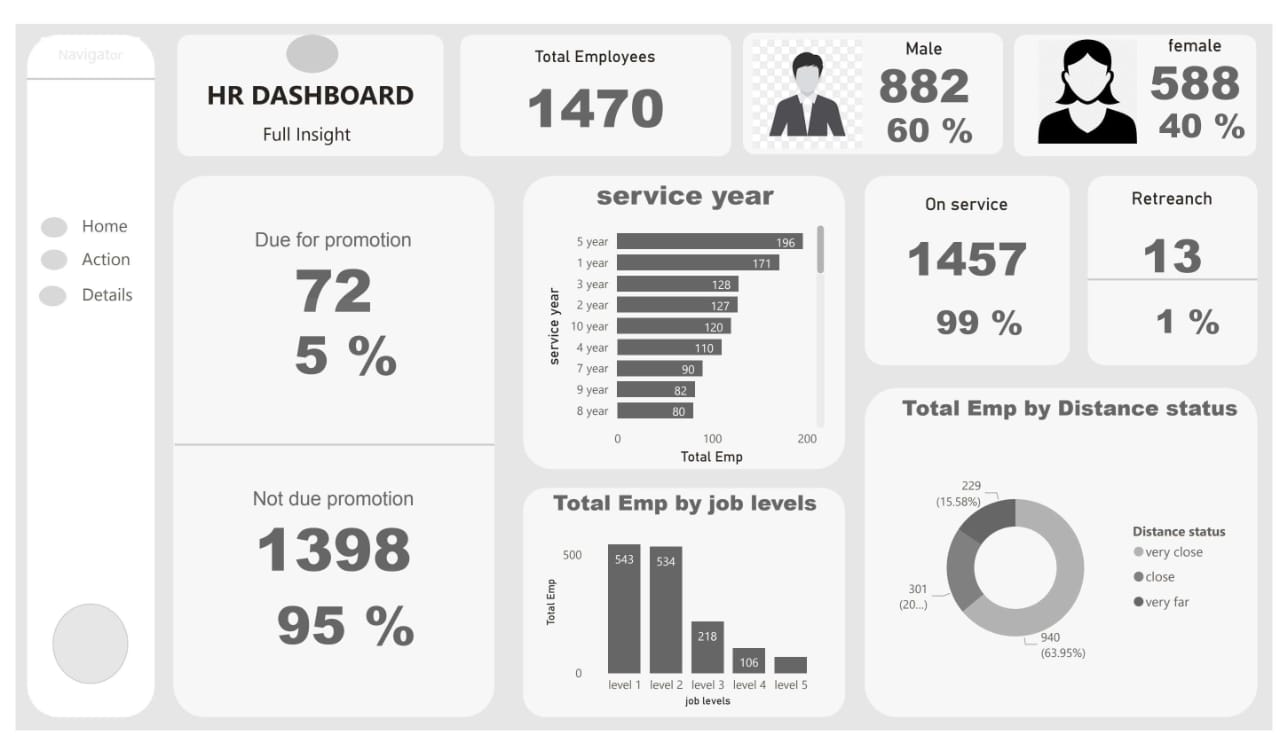

This screenshot's page, from the dashboard's own definition file:
{"tool":"powerbi","page":{"name":"Home","canvas":[1280,720],"ordinal":0},"visuals":[{"type":"shape","box":[12.1,10.6,130.3,696.8],"z":0},{"type":"shape","box":[452.9,10.6,275.7,124.2],"z":1000},{"type":"shape","box":[740.7,9.1,265.1,124.2],"z":2000},{"type":"shape","box":[1017.3,10.7,246.7,124],"z":3000},{"type":"card","title":"Total Employees","fields":{"Values":["Measure value.Total Emp"]},"box":[474.1,22.7,233.3,100],"z":4000},{"type":"shape","box":[165.1,10.6,271.1,124.2],"z":5000},{"type":"shape","box":[275.7,10.6,53,39.4],"z":6000},{"type":"textbox","box":[246.9,93.9,109.1,36.4],"z":7000},{"type":"card","title":"Male","fields":{"Values":["Measure value.male"]},"box":[861.9,13.6,127.2,72.7],"z":8000},{"type":"shape","box":[160.6,154.5,327.2,552.9],"z":9000},{"type":"shape","box":[162.1,404.4,325.7,50],"z":10000},{"type":"shape","box":[516.5,154.5,328.7,299.9],"z":11000},{"type":"shape","box":[516.5,472.6,328.7,234.8],"z":12000},{"type":"card","title":"Male","fields":{"Values":["Measure value.%Male"]},"box":[874,83.3,115.1,48.5],"z":13000},{"type":"card","title":"female","fields":{"Values":["Measure value.female"]},"box":[1137.6,10.6,127.2,72.7],"z":14000},{"type":"card","title":"Male","fields":{"Values":["Measure value.%Female"]},"box":[1152.8,78.8,112.1,48.5],"z":15000},{"type":"image","box":[1017.9,10.6,148.4,116.6],"z":16000},{"type":"image","box":[739.2,10.6,134.8,121.2],"z":17000},{"type":"card","title":"Due for promotion","fields":{"Values":["Measure value.Due for promotion"]},"box":[183.3,209,281.8,95.4],"z":18000},{"type":"card","fields":{"Values":["Measure value.% Due for promotion"]},"box":[221.2,280.2,231.8,107.6],"z":19000},{"type":"card","title":"Not due promotion","fields":{"Values":["Measure value.Not due"]},"box":[183.3,472.6,281.8,95.4],"z":20000},{"type":"card","fields":{"Values":["Measure value.% Not due"]},"box":[221.2,555.9,231.8,107.6],"z":21000},{"type":"textbox","box":[177.2,48.5,246.9,54.5],"z":22000},{"type":"barChart","title":"service year","fields":{"Category":["HR Analytics Data.service year"],"Y":["Measure value.Total Emp"]},"box":[534.7,154.5,293.9,299.9],"z":23000},{"type":"columnChart","fields":{"Category":["HR Analytics Data.job levels"],"Y":["Measure value.Total Emp"]},"box":[534.7,472.6,293.9,228.7],"z":24000},{"type":"shape","box":[1092.2,154.5,172.7,193.9],"z":25000},{"type":"shape","box":[864.9,371.1,399.9,336.3],"z":26000},{"type":"donutChart","fields":{"Category":["HR Analytics Data.Distance status"],"Y":["Measure value.Total Emp"]},"box":[893.7,375.7,360.5,327.2],"z":27000},{"type":"shape","box":[864.9,154.5,209,193.9],"z":28000},{"type":"card","title":"On service","fields":{"Values":["Measure value.on service"]},"box":[893.7,172.7,150,107.6],"z":29000},{"type":"card","title":"Retreanch","fields":{"Values":["Measure value.retreanched"]},"box":[1102.8,166.6,150,113.6],"z":30000},{"type":"card","title":"Male","fields":{"Values":["Measure value.%on service"]},"box":[925.5,271.1,112.1,65.1],"z":31000},{"type":"card","title":"Male","fields":{"Values":["Measure value.%retreanched"]},"box":[1152.8,269.6,81.8,65.1],"z":32000},{"type":"shape","box":[37.9,590.8,77.3,81.8],"z":33000},{"type":"shape","box":[1092.2,240.9,172.7,39.4],"z":34000},{"type":"shape","box":[12.1,36.4,130.3,39.4],"z":35000},{"type":"textbox","box":[25.8,13.6,101.5,33.3],"z":36000},{"type":"actionButton","box":[25.8,230.2,27.3,21.2],"z":37000},{"type":"actionButton","box":[25.8,196.9,27.3,21.2],"z":38000},{"type":"actionButton","box":[24.2,266.6,27.3,21.2],"z":39000},{"type":"actionButton","box":[63.6,189.3,78.8,28.8],"z":40000},{"type":"actionButton","box":[63.6,222.7,78.8,28.8],"z":41000},{"type":"actionButton","box":[63.6,259,78.8,28.8],"z":42000}]}

Visuals, with their boxes on the page's 1280x720 design canvas (x1, y1, x2, y2). These are canvas units, not pixel positions in the 1280x750 screenshot, which may show the page scaled, cropped or inside an application window:
shape: {"x1": 12, "y1": 11, "x2": 142, "y2": 707}
shape: {"x1": 453, "y1": 11, "x2": 729, "y2": 135}
shape: {"x1": 741, "y1": 9, "x2": 1006, "y2": 133}
shape: {"x1": 1017, "y1": 11, "x2": 1264, "y2": 135}
"Total Employees" card: {"x1": 474, "y1": 23, "x2": 707, "y2": 123}
shape: {"x1": 165, "y1": 11, "x2": 436, "y2": 135}
shape: {"x1": 276, "y1": 11, "x2": 329, "y2": 50}
textbox: {"x1": 247, "y1": 94, "x2": 356, "y2": 130}
"Male" card: {"x1": 862, "y1": 14, "x2": 989, "y2": 86}
shape: {"x1": 161, "y1": 154, "x2": 488, "y2": 707}
shape: {"x1": 162, "y1": 404, "x2": 488, "y2": 454}
shape: {"x1": 516, "y1": 154, "x2": 845, "y2": 454}
shape: {"x1": 516, "y1": 473, "x2": 845, "y2": 707}
"Male" card: {"x1": 874, "y1": 83, "x2": 989, "y2": 132}
"female" card: {"x1": 1138, "y1": 11, "x2": 1265, "y2": 83}
"Male" card: {"x1": 1153, "y1": 79, "x2": 1265, "y2": 127}
image: {"x1": 1018, "y1": 11, "x2": 1166, "y2": 127}
image: {"x1": 739, "y1": 11, "x2": 874, "y2": 132}
"Due for promotion" card: {"x1": 183, "y1": 209, "x2": 465, "y2": 304}
card - Measure value.% Due for promotion: {"x1": 221, "y1": 280, "x2": 453, "y2": 388}
"Not due promotion" card: {"x1": 183, "y1": 473, "x2": 465, "y2": 568}
card - Measure value.% Not due: {"x1": 221, "y1": 556, "x2": 453, "y2": 664}
textbox: {"x1": 177, "y1": 48, "x2": 424, "y2": 103}
"service year" barChart: {"x1": 535, "y1": 154, "x2": 829, "y2": 454}
columnChart - HR Analytics Data.job levels x Measure value.Total Emp: {"x1": 535, "y1": 473, "x2": 829, "y2": 701}
shape: {"x1": 1092, "y1": 154, "x2": 1265, "y2": 348}
shape: {"x1": 865, "y1": 371, "x2": 1265, "y2": 707}
donutChart - HR Analytics Data.Distance status x Measure value.Total Emp: {"x1": 894, "y1": 376, "x2": 1254, "y2": 703}
shape: {"x1": 865, "y1": 154, "x2": 1074, "y2": 348}
"On service" card: {"x1": 894, "y1": 173, "x2": 1044, "y2": 280}
"Retreanch" card: {"x1": 1103, "y1": 167, "x2": 1253, "y2": 280}
"Male" card: {"x1": 926, "y1": 271, "x2": 1038, "y2": 336}
"Male" card: {"x1": 1153, "y1": 270, "x2": 1235, "y2": 335}
shape: {"x1": 38, "y1": 591, "x2": 115, "y2": 673}
shape: {"x1": 1092, "y1": 241, "x2": 1265, "y2": 280}
shape: {"x1": 12, "y1": 36, "x2": 142, "y2": 76}
textbox: {"x1": 26, "y1": 14, "x2": 127, "y2": 47}
actionButton: {"x1": 26, "y1": 230, "x2": 53, "y2": 251}
actionButton: {"x1": 26, "y1": 197, "x2": 53, "y2": 218}
actionButton: {"x1": 24, "y1": 267, "x2": 52, "y2": 288}
actionButton: {"x1": 64, "y1": 189, "x2": 142, "y2": 218}
actionButton: {"x1": 64, "y1": 223, "x2": 142, "y2": 252}
actionButton: {"x1": 64, "y1": 259, "x2": 142, "y2": 288}
